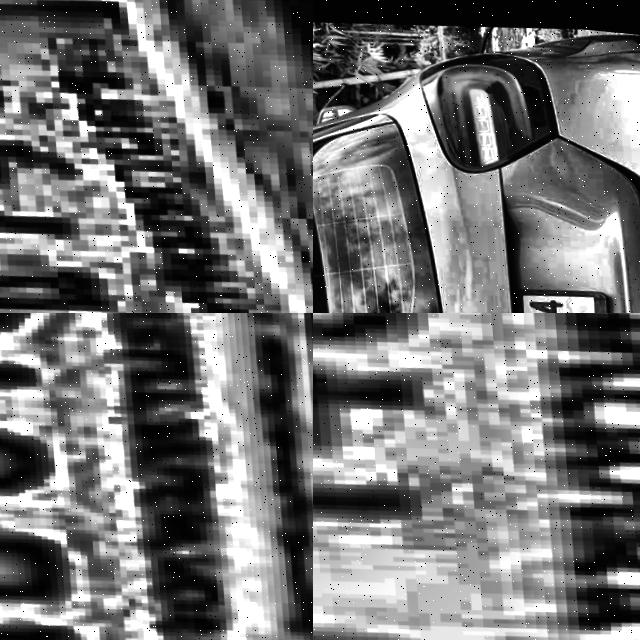license-plate: (313, 313, 640, 640), (0, 313, 313, 640), (0, 0, 313, 313), (508, 276, 620, 313)
